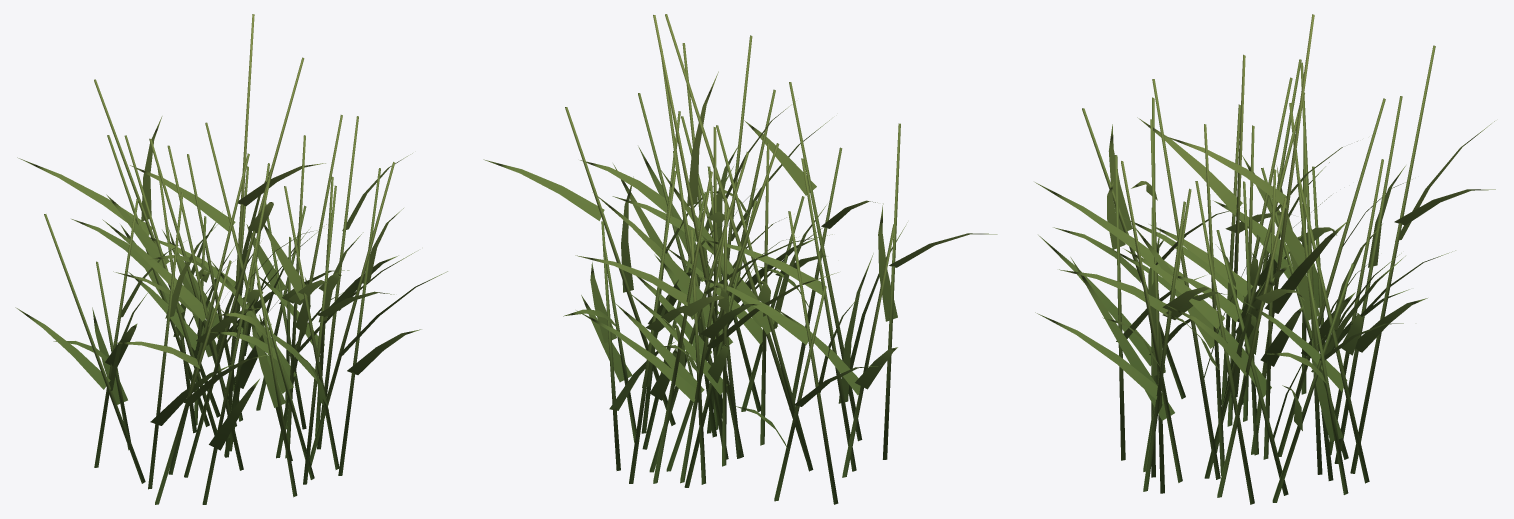
Rendered from reed_clump_a.glb.
The picture shows the model from 3 angles, left to right: view 1: azimuth 30°, elevation 25°; view 2: azimuth 150°, elevation 25°; view 3: azimuth 270°, elevation 25°; orthographic projection. The views are drawn at different scales.
Parts seen in each view (by area): view 1: reed_clump_a; view 2: reed_clump_a; view 3: reed_clump_a.
Part boxes in pixels (x1,y1,x2,y2): reed_clump_a: [15, 14, 447, 504]; reed_clump_a: [483, 14, 997, 504]; reed_clump_a: [1035, 14, 1495, 504].
Bounding box in the file's own units: 1.86 × 1.86 × 1.68.
